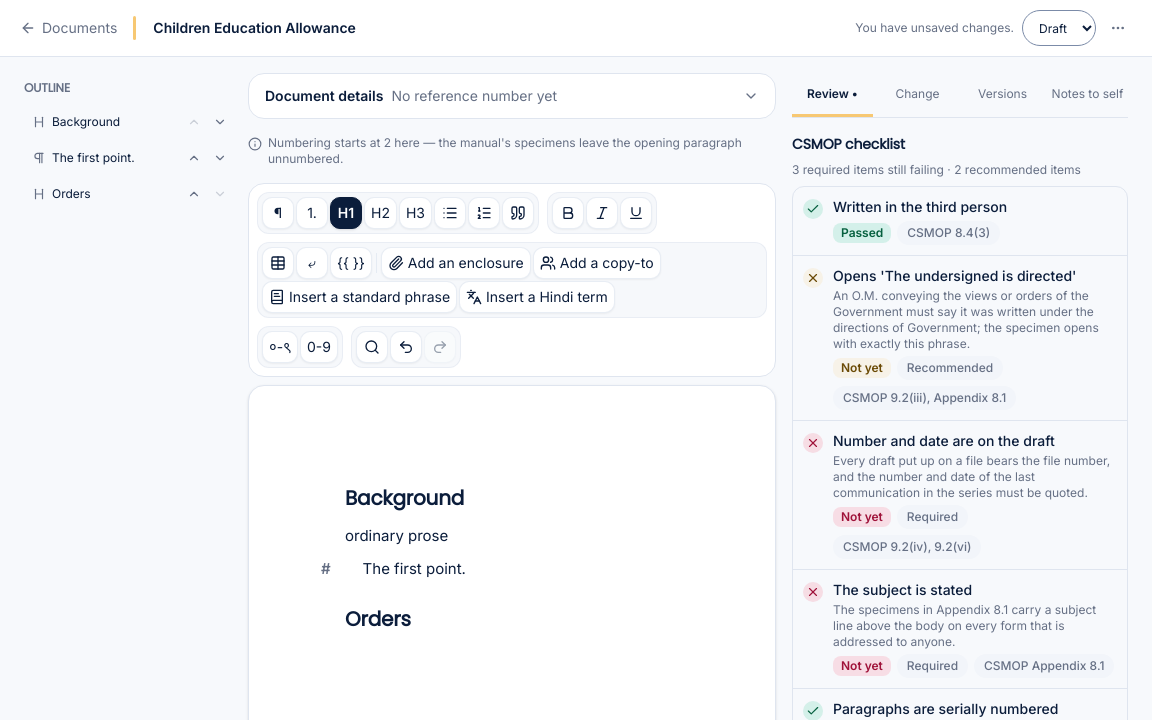
Test: the two sheets an IA change orphaned › offers the phrase library too
Expected: the field named "Document body" is shown, [345, 484, 466, 633]
Click the button "Insert a standard phrase": (360, 297) [262, 281, 457, 313]
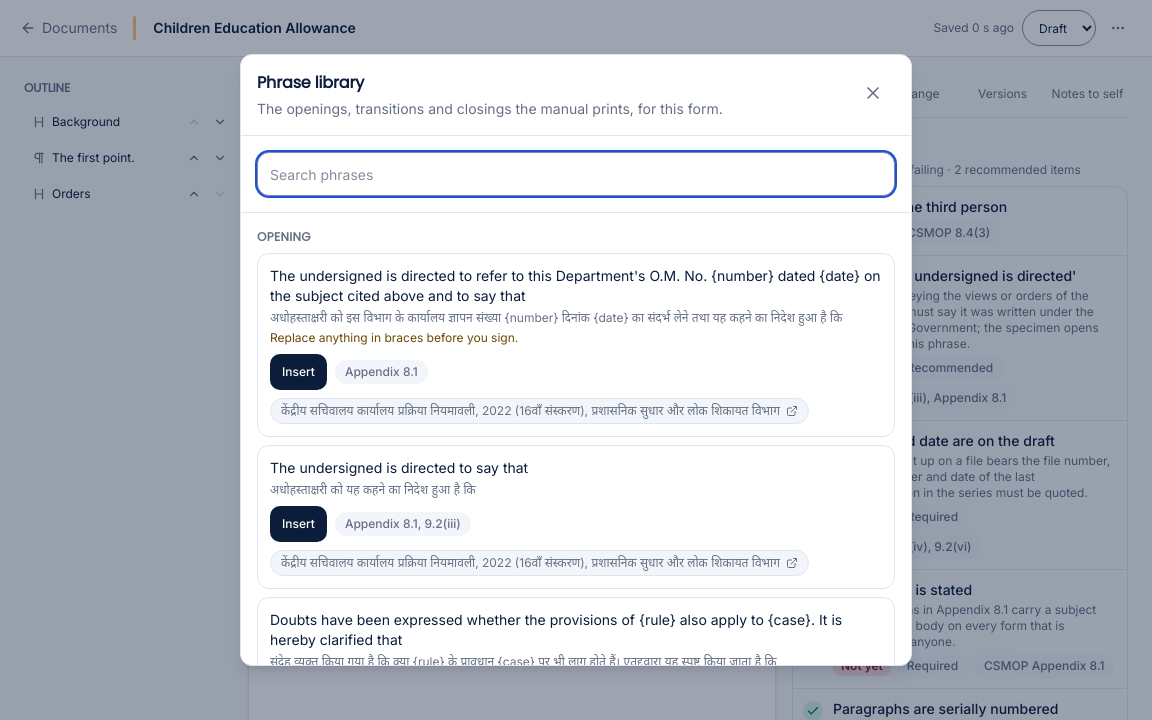
Now the dialog is shown, box [240, 54, 912, 666]
